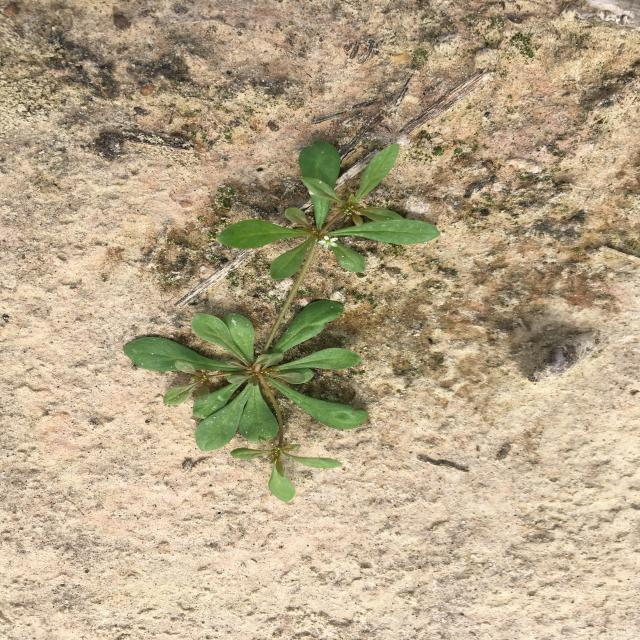Carpetweed: (124, 140, 440, 503)
